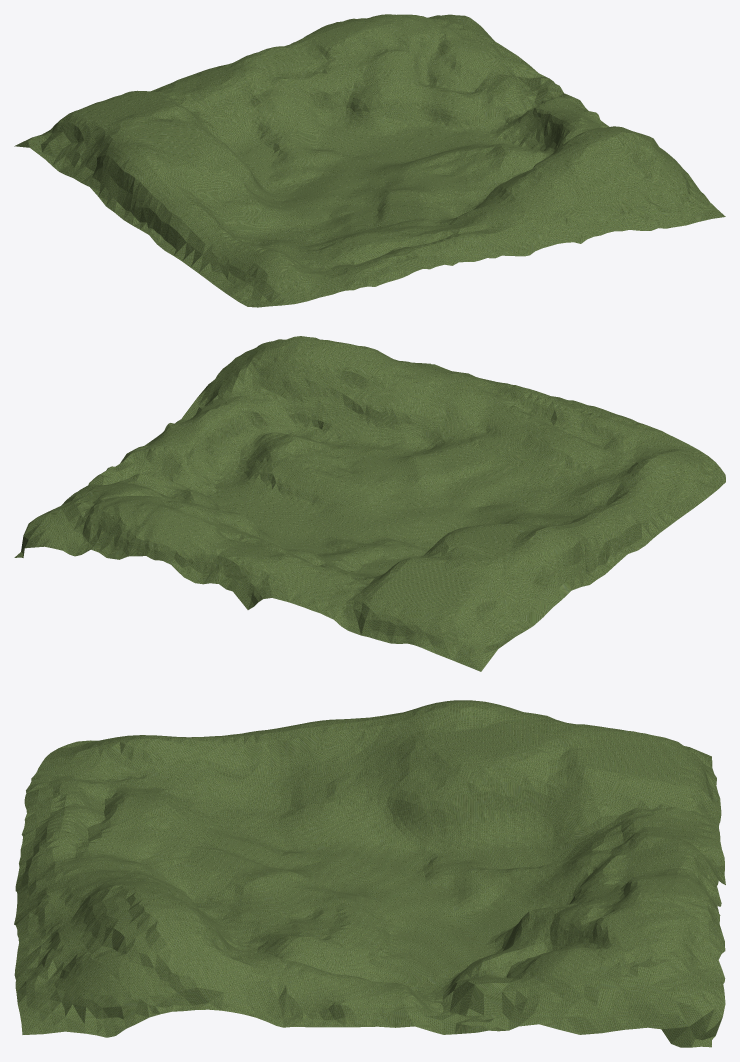
Rendered from cryptid_camping_collision-colonly.glb.
The picture shows the model from 3 angles, top to bottom: view 1: azimuth 30°, elevation 25°; view 2: azimuth 150°, elevation 25°; view 3: azimuth 270°, elevation 25°; orthographic projection. The views are drawn at different scales.
Parts seen in each view (by area): view 1: Collision-colonly; view 2: Collision-colonly; view 3: Collision-colonly.
Part boxes in pixels (x1,y1,x2,y2): Collision-colonly: [14, 14, 725, 307]; Collision-colonly: [14, 336, 725, 671]; Collision-colonly: [14, 700, 725, 1047].
Size of the model in its own units: 490 by 74.12 by 491.
Materials: 1 (1 with a texture image).
